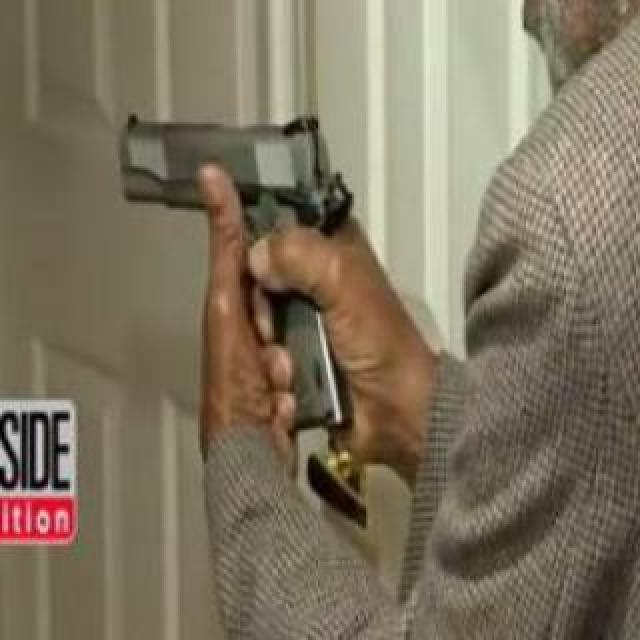Guns: (108, 96, 359, 446)
